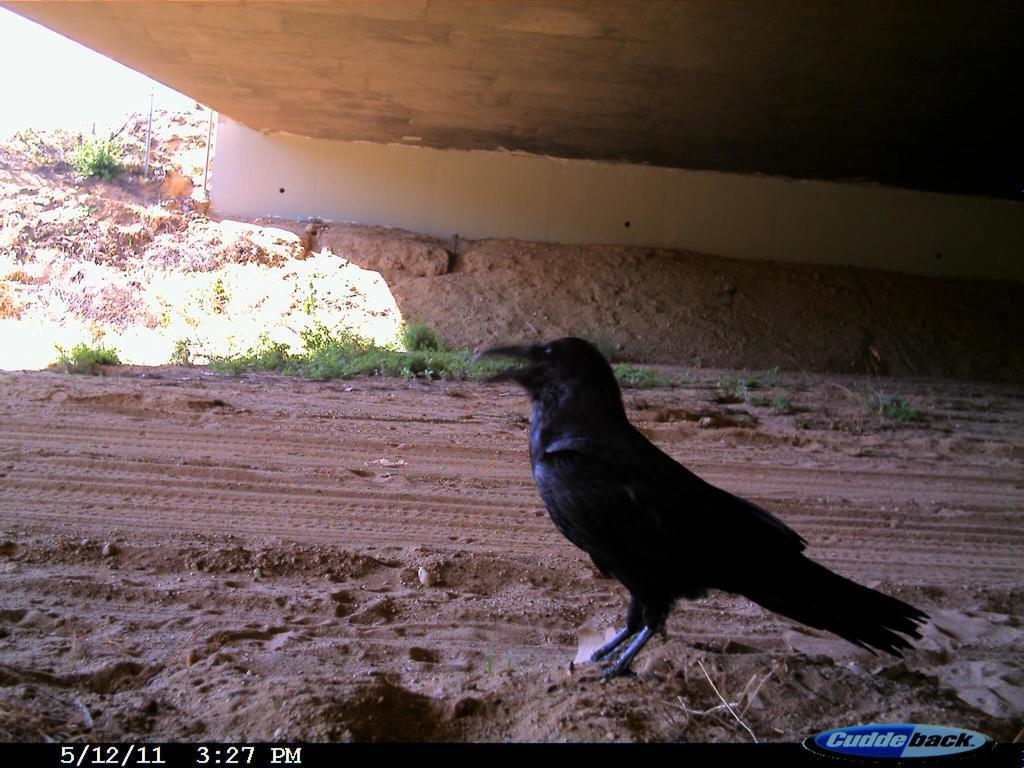bird: (473, 326, 941, 687)
